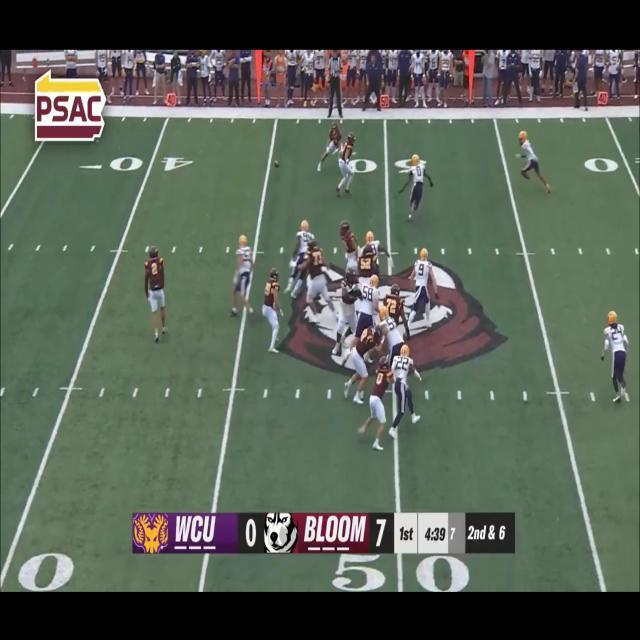football: (271, 157, 282, 170)
